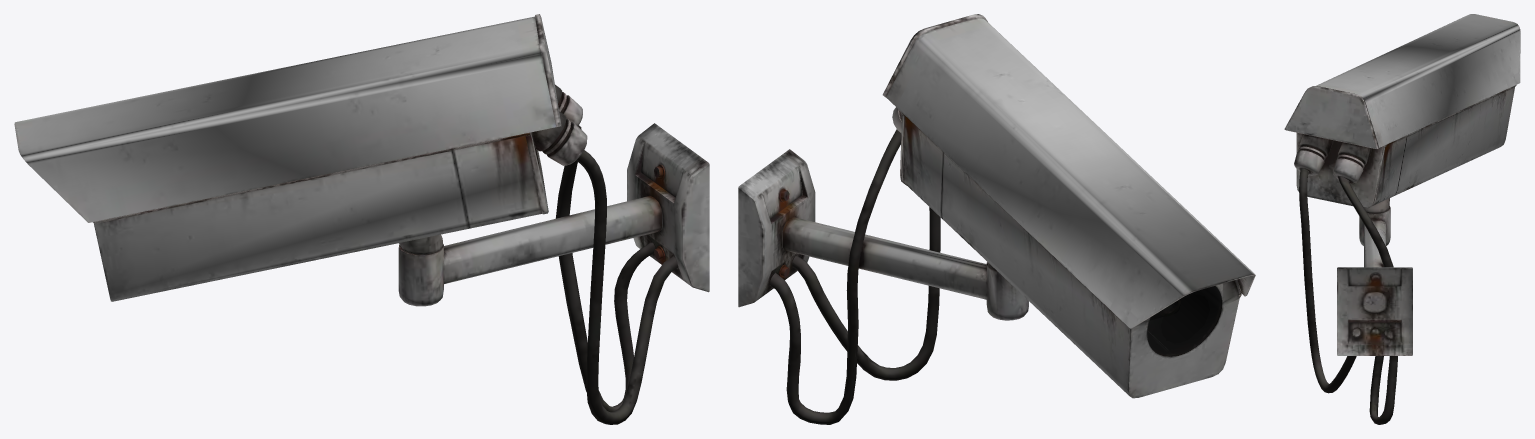
The model's file is cctv.glb.
3 renders of one model, left to right at view 1: azimuth 30°, elevation 25°; view 2: azimuth 150°, elevation 25°; view 3: azimuth 270°, elevation 25°, orthographic. The views are drawn at different scales.
Visible parts, largest first — view 1: LT_CCTV; view 2: LT_CCTV; view 3: LT_CCTV.
Part boxes in pixels (left/top/right/bottom): LT_CCTV: left=14, top=14, right=709, bottom=424; LT_CCTV: left=738, top=14, right=1255, bottom=424; LT_CCTV: left=1284, top=14, right=1520, bottom=424.
Bounding box in the file's own units: 0.5 × 0.3504 × 0.2529.
Materials: 2 (2 with a texture image).
